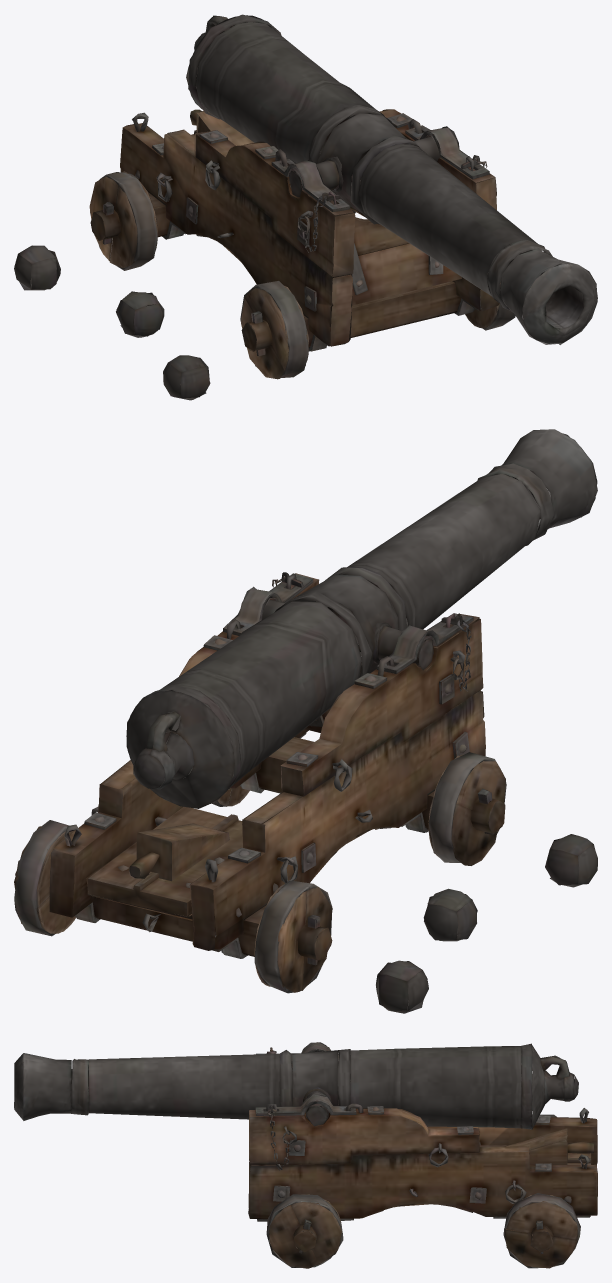
File: ph_cannon_01.glb
The picture shows the model from 3 angles, top to bottom: view 1: azimuth 30°, elevation 25°; view 2: azimuth 150°, elevation 25°; view 3: azimuth 270°, elevation 25°; orthographic projection. The views are drawn at different scales.
Parts seen in each view (by area): view 1: cannon_01_frame; view 2: cannon_01_frame; view 3: cannon_01_frame.
Part boxes in pixels (x1=…): cannon_01_frame: x1=14, y1=14, x2=597, y2=400; cannon_01_frame: x1=14, y1=429, x2=597, y2=1013; cannon_01_frame: x1=14, y1=1042, x2=597, y2=1268.
Size of the model in its own units: 1.23 by 0.7744 by 2.3.
1 material, 1 textured.
